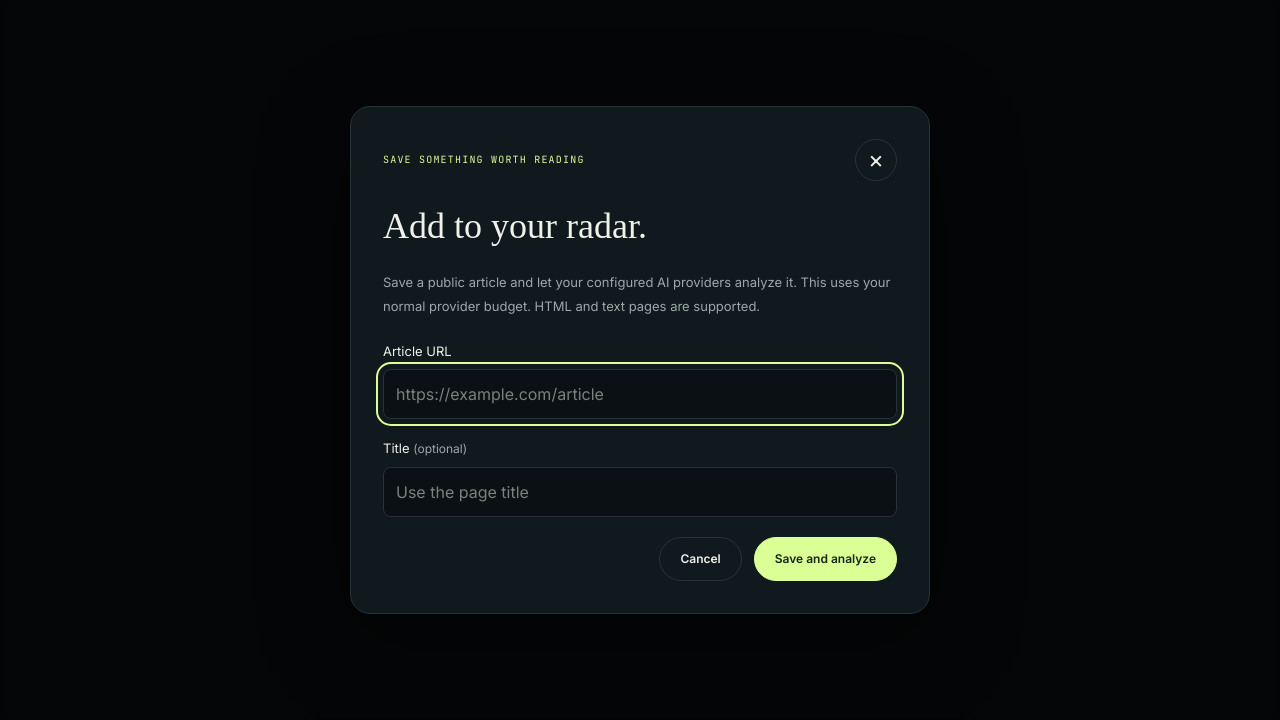
Test: keeps input after an error and never retries the write automatically
Type "https://example.org/article" into the field labelled "Article URL".
click(640, 394); type("https://example.org/article")  # box [383, 369, 897, 419]
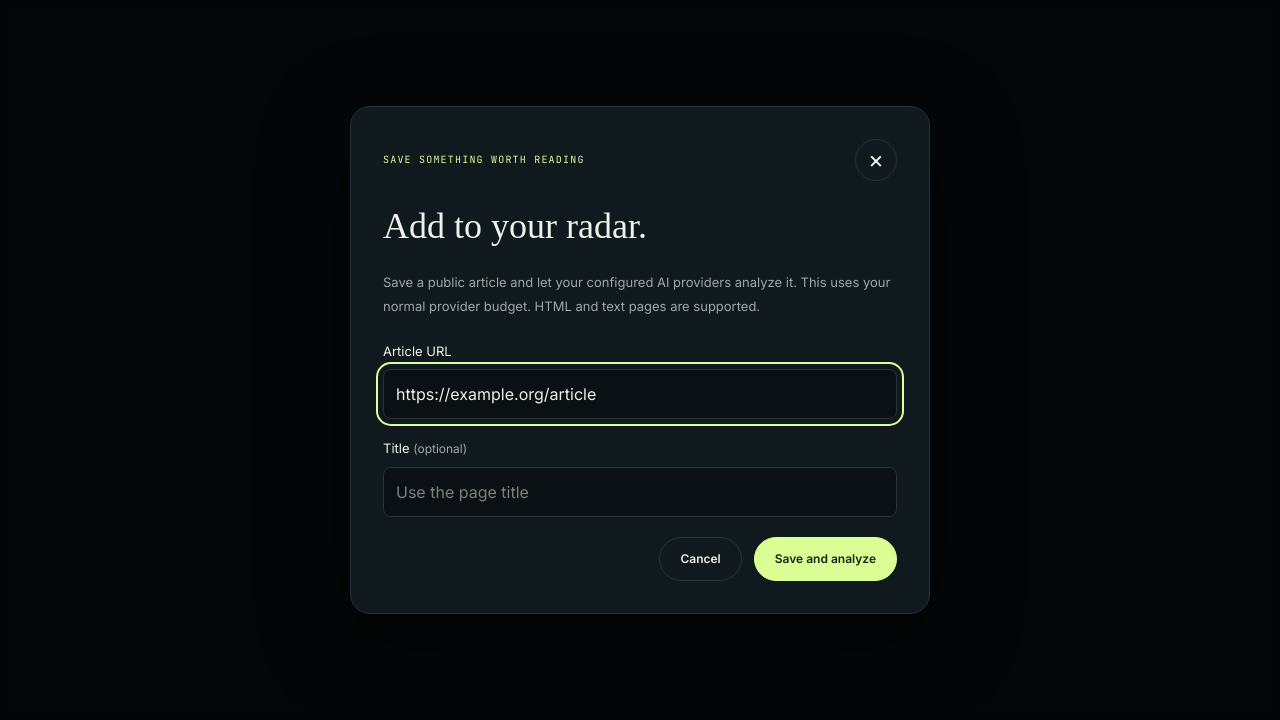
Click the button "Save and analyze".
click(825, 559)  # box [754, 537, 897, 581]
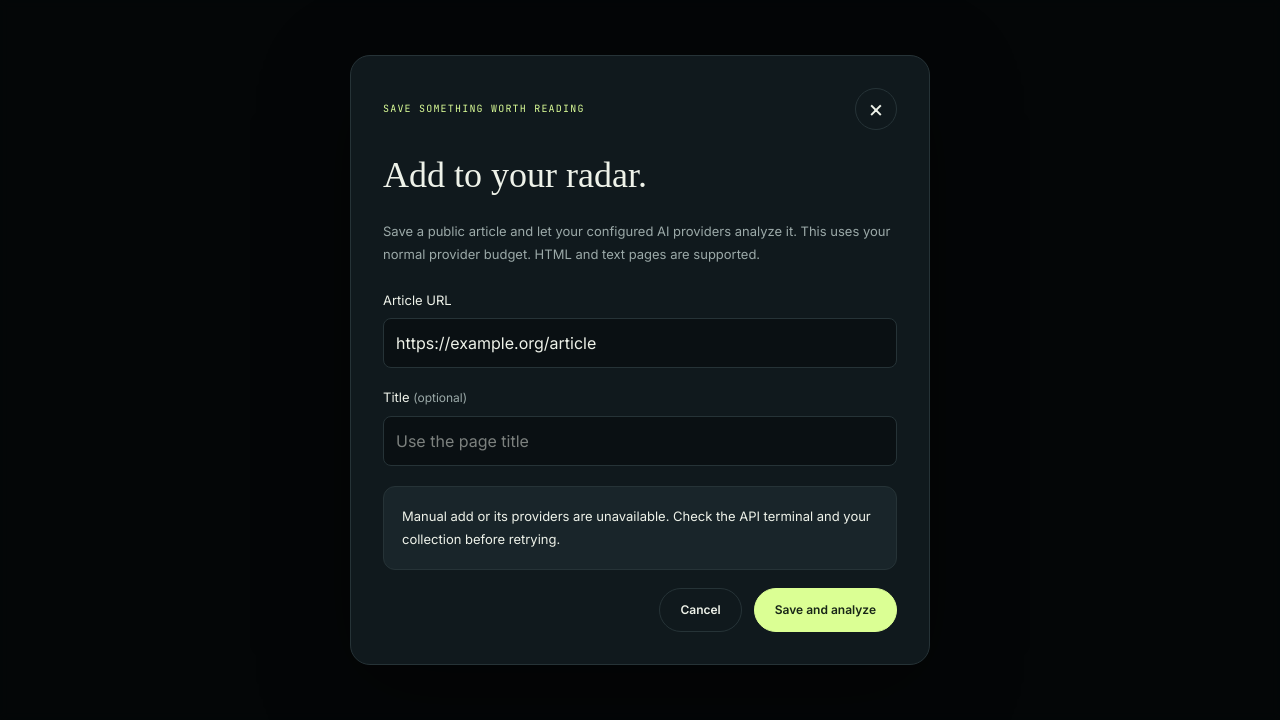
Expected: the message shows "providers are unavailable", [402, 508, 871, 547]
